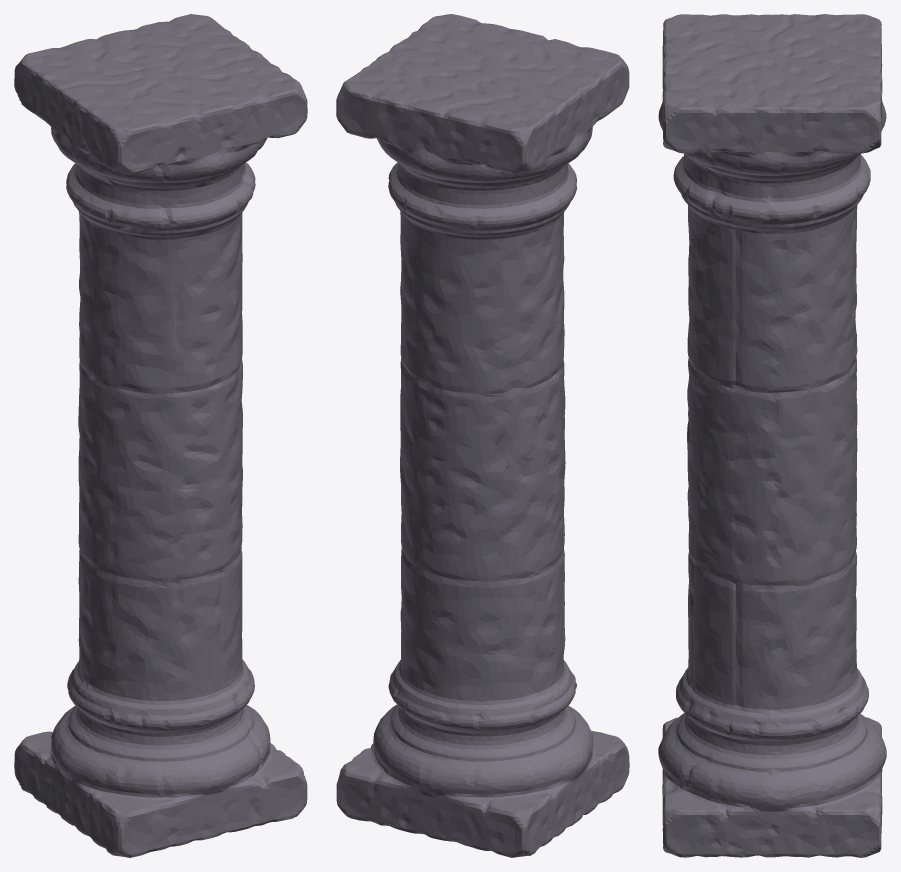
Rendered from coluna.glb.
The picture shows the model from 3 angles, left to right: view 1: azimuth 30°, elevation 25°; view 2: azimuth 150°, elevation 25°; view 3: azimuth 270°, elevation 25°; orthographic projection. The views are drawn at different scales.
Parts seen in each view (by area): view 1: tmp9uheu6uy.ply; view 2: tmp9uheu6uy.ply; view 3: tmp9uheu6uy.ply.
Boxes of the visible parts, left/top/right/bottom form: tmp9uheu6uy.ply: left=14, top=14, right=307, bottom=857; tmp9uheu6uy.ply: left=336, top=14, right=629, bottom=857; tmp9uheu6uy.ply: left=658, top=14, right=886, bottom=857.
Size of the model in its own units: 0.5477 by 1.96 by 0.5401.
1 material, 1 textured.
